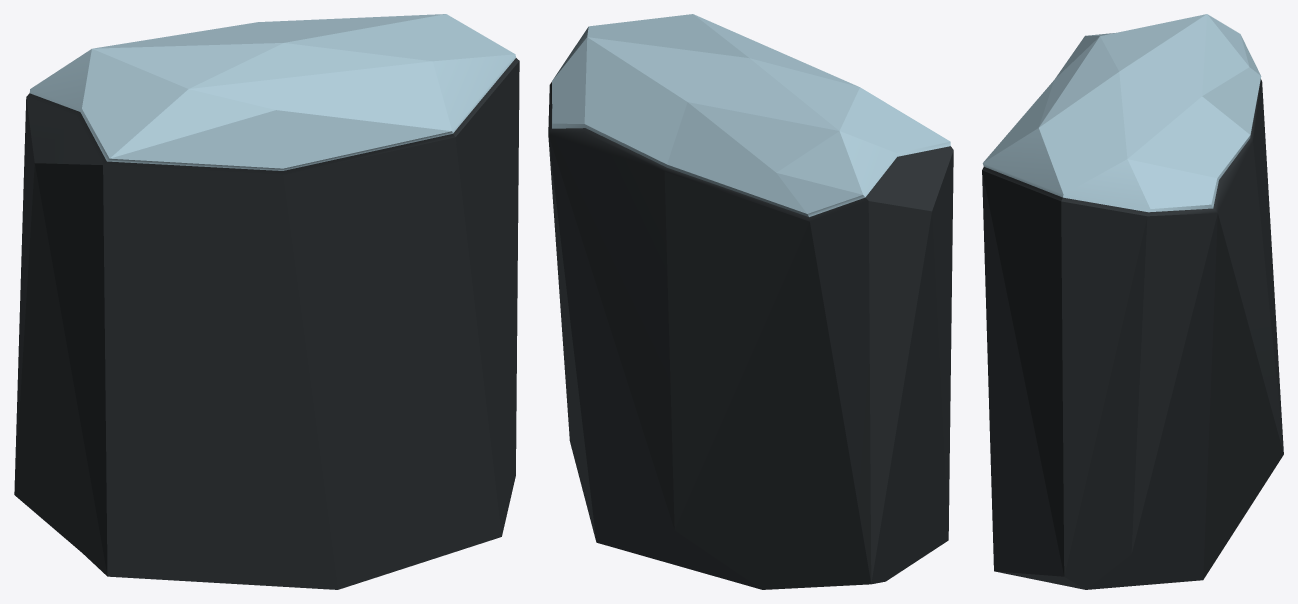
The model's file is Geo_Cliff03.fbx.
3 renders of one model, left to right at view 1: azimuth 30°, elevation 25°; view 2: azimuth 150°, elevation 25°; view 3: azimuth 270°, elevation 25°, orthographic. The views are drawn at different scales.
Parts seen in each view (by area): view 1: polySurface12; view 2: polySurface12; view 3: polySurface12.
Part boxes in pixels (bbox=[...]): polySurface12: bbox=[14, 14, 519, 589]; polySurface12: bbox=[548, 14, 953, 589]; polySurface12: bbox=[982, 14, 1283, 589].
Size of the model in its own units: 734 by 850 by 500.
